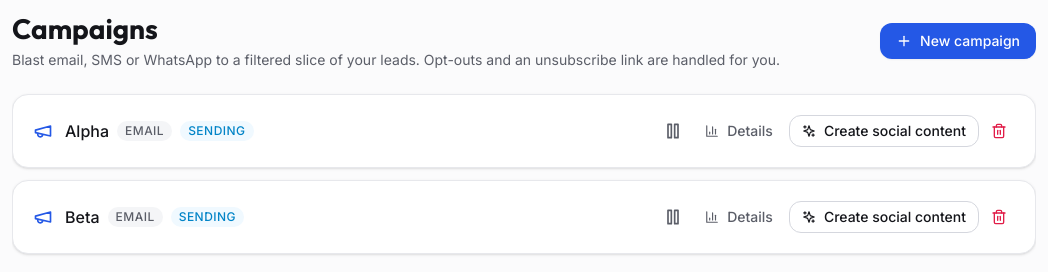
Test: CampaignsPage — per-row pause/resume loading (no cross-row bleed) › pausing one campaign leaves the other campaign's Pause button clickable
Click the button named "pause" in the row of "Alpha" at (673, 131), box [657, 115, 689, 147]
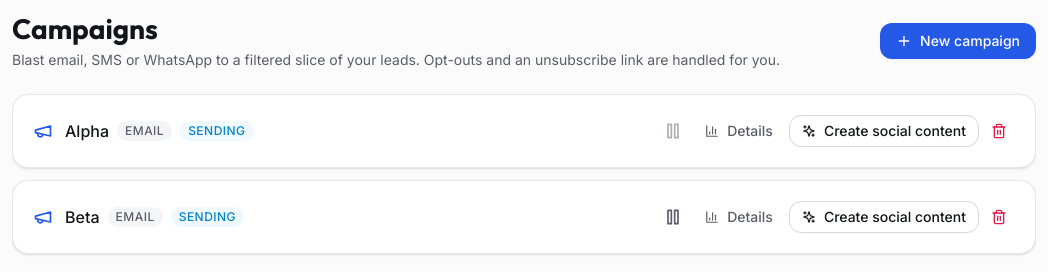
Expected: the button named "pause" in the row of "Beta" is enabled, [657, 201, 689, 233]
Expected: the button named "pause" in the row of "Alpha" is disabled, [657, 115, 689, 147]
